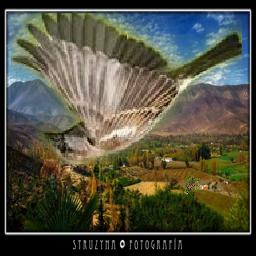Sparrow: (12, 14, 243, 165), (184, 176, 201, 195)
